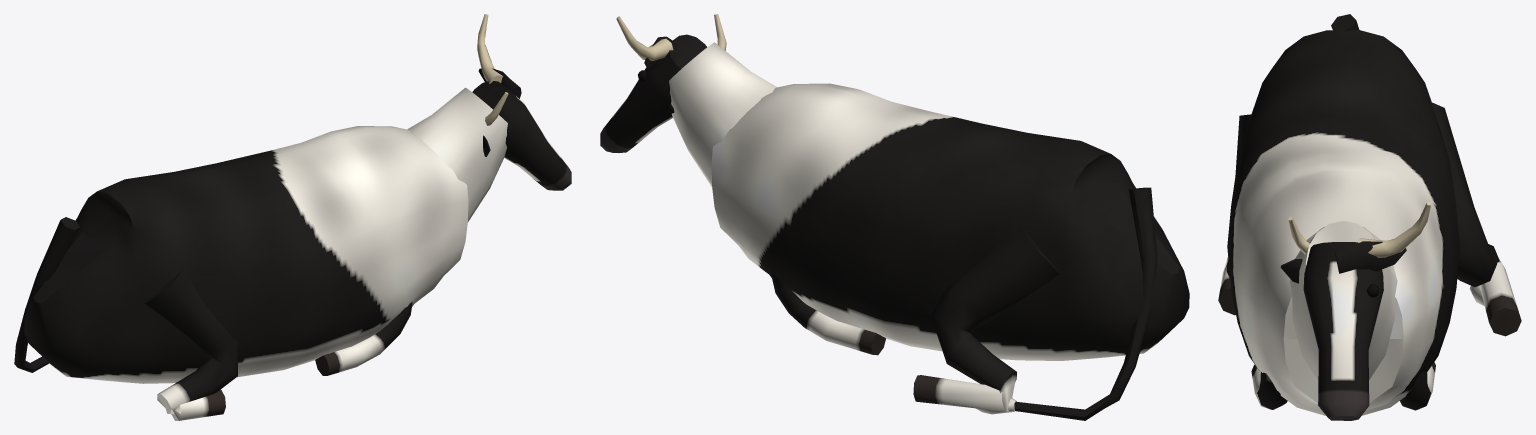
The model's file is tpl_life_herd_1750_cattle_blackpied_lie_h.glb.
3 renders of one model, left to right at view 1: azimuth 30°, elevation 25°; view 2: azimuth 150°, elevation 25°; view 3: azimuth 270°, elevation 25°, orthographic. The views are drawn at different scales.
Parts seen in each view (by area): view 1: tpl_life_herd_1750_cattle_blackpied_lie_h; view 2: tpl_life_herd_1750_cattle_blackpied_lie_h; view 3: tpl_life_herd_1750_cattle_blackpied_lie_h.
Part boxes in pixels (left/top/right/bottom): tpl_life_herd_1750_cattle_blackpied_lie_h: left=14, top=14, right=571, bottom=420; tpl_life_herd_1750_cattle_blackpied_lie_h: left=600, top=14, right=1189, bottom=420; tpl_life_herd_1750_cattle_blackpied_lie_h: left=1218, top=14, right=1521, bottom=420.
Bounding box in the file's own units: 2.32 × 1.08 × 0.9187.
3 materials, 1 textured.
